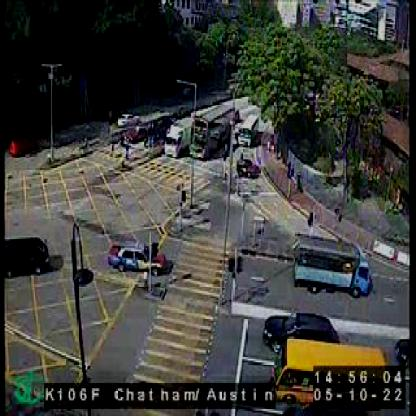Bus: (269, 336, 385, 402), (189, 104, 233, 158), (238, 111, 259, 142)
Car: (262, 312, 340, 350), (108, 241, 166, 276), (2, 236, 50, 274), (123, 125, 147, 142), (116, 109, 138, 125)
Truck: (291, 234, 369, 295), (164, 116, 191, 154)
